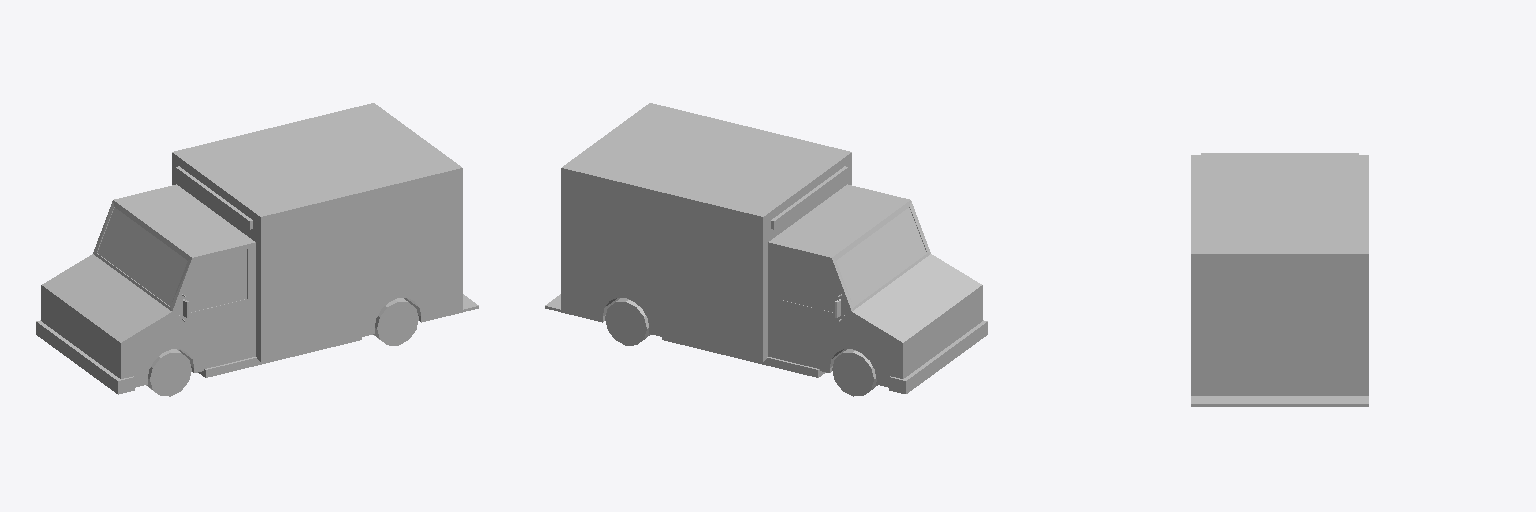
The model's file is Ambulance.obj.
3 views of the same model, side by side, from view 1: azimuth 30°, elevation 25°; view 2: azimuth 150°, elevation 25°; view 3: azimuth 270°, elevation 25° (orthographic).
Parts seen in each view (by area): view 1: Ambulance_Body, Wheel_RL, Wheel_FL; view 2: Ambulance_Body, Wheel_RR, Wheel_FR; view 3: Ambulance_Body.
Part boxes in pixels (left/top/right/bottom): Ambulance_Body: left=36, top=103, right=478, bottom=394; Wheel_RL: left=373, top=298, right=418, bottom=345; Wheel_FL: left=146, top=349, right=191, bottom=396; Ambulance_Body: left=545, top=103, right=987, bottom=393; Wheel_RR: left=605, top=298, right=650, bottom=345; Wheel_FR: left=832, top=349, right=877, bottom=396; Ambulance_Body: left=1191, top=153, right=1368, bottom=406.
Size of the model in its own units: 268 by 116 by 115.